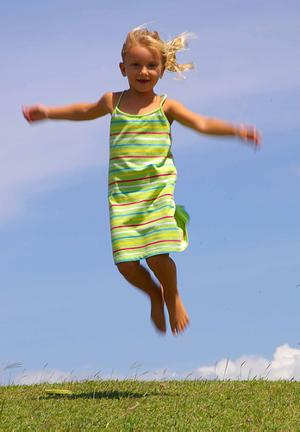person: (22, 26, 259, 335)
